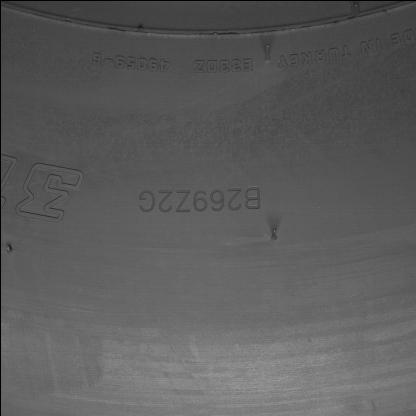ocr: (138, 182, 260, 214)
